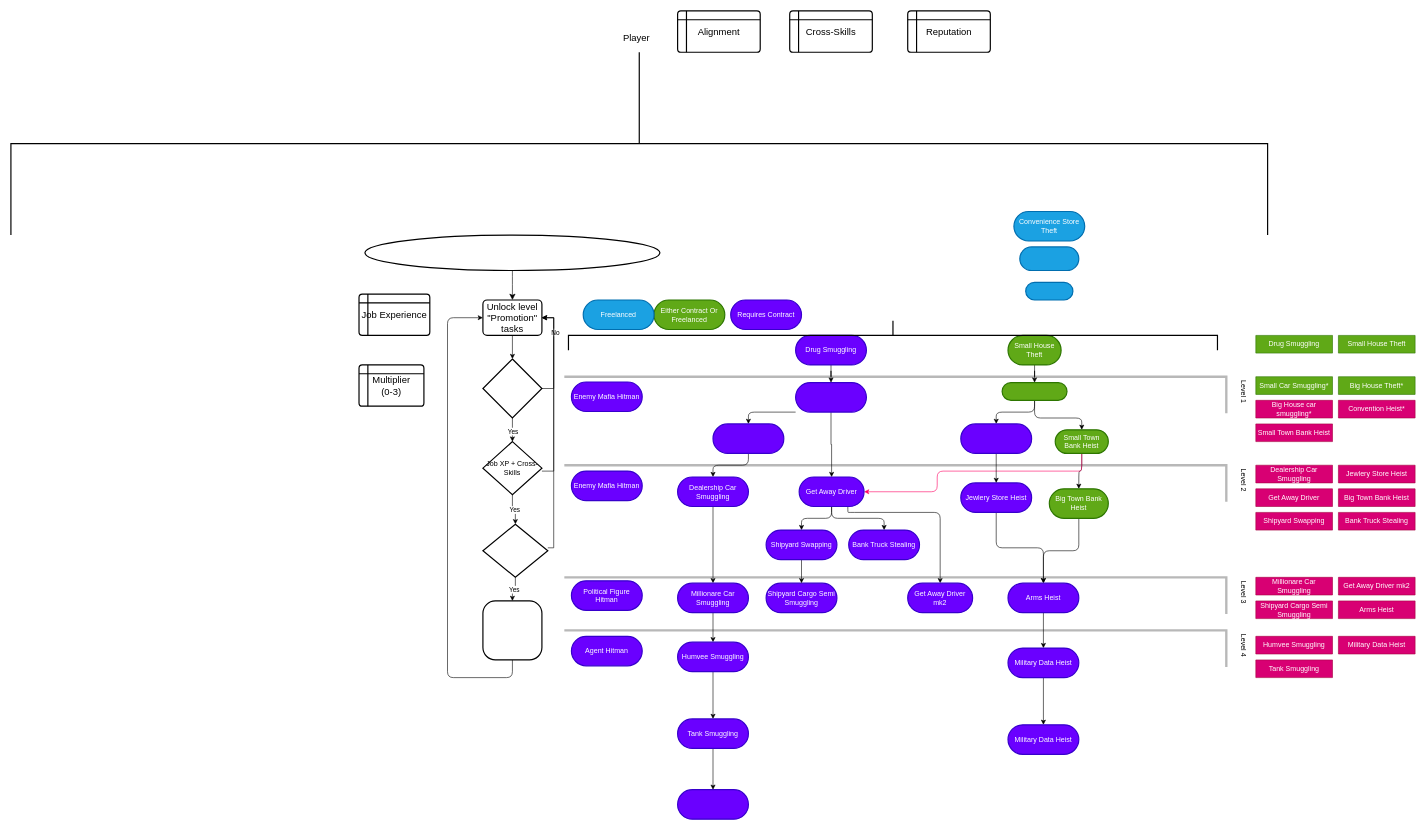
The diagram is 1425 pixels wide and 830 high, and some of its shapes have lost their labels. Each missing label, with the box of its shape:
Aircraft Smuggling: (677, 789, 749, 820)
Big house car smuggling: (712, 423, 784, 454)
Big House Theft: (1001, 382, 1067, 401)
Convention Heist: (960, 423, 1032, 454)
Criminal: (364, 234, 660, 271)
Enough Reputation: (482, 523, 548, 578)
Gas Station House: (1019, 246, 1079, 271)
Is trying to promote?: (482, 358, 542, 418)
Promotion++: (482, 600, 542, 660)
Shoplifting: (1025, 281, 1073, 300)
Small Car Smuggling: (795, 382, 867, 412)
Tech Tree: (568, 320, 1218, 350)
